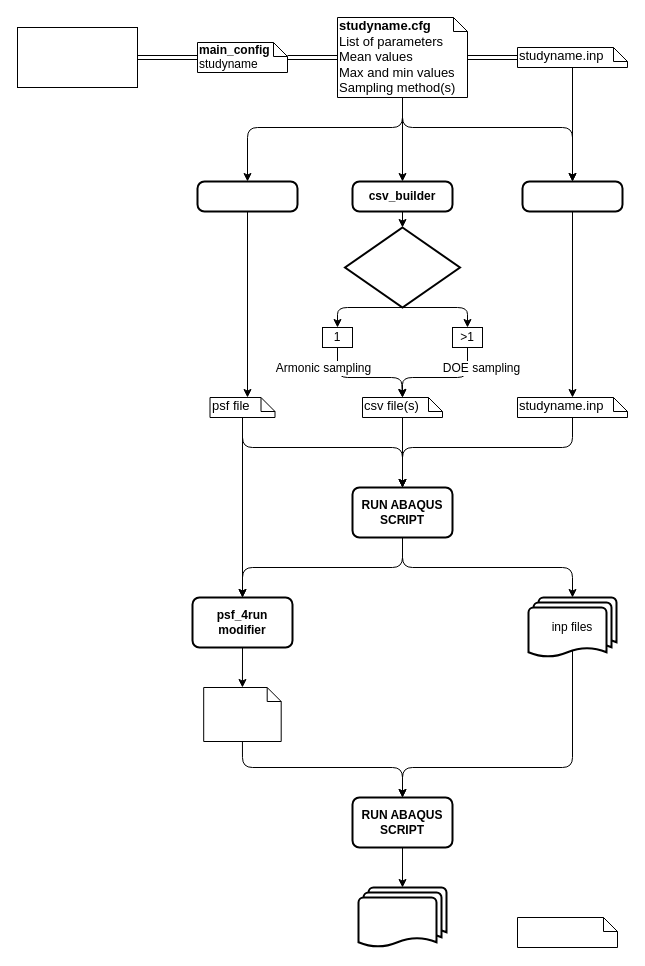
The diagram is 645 pixels wide and 966 high, and some of its shapes have lost their labels. Here are the shapes that lost their labels. From the top down, the box of each, then its label:
(16, 26, 138, 88): MAIN
(196, 180, 298, 212): psf_builder
(521, 180, 623, 212): inp_modifier
(344, 226, 460, 308): Number of parameters
(203, 686, 281, 742): psf file with run command
(357, 886, 447, 948): ODB files
(516, 916, 618, 948): post_process abaqus script
